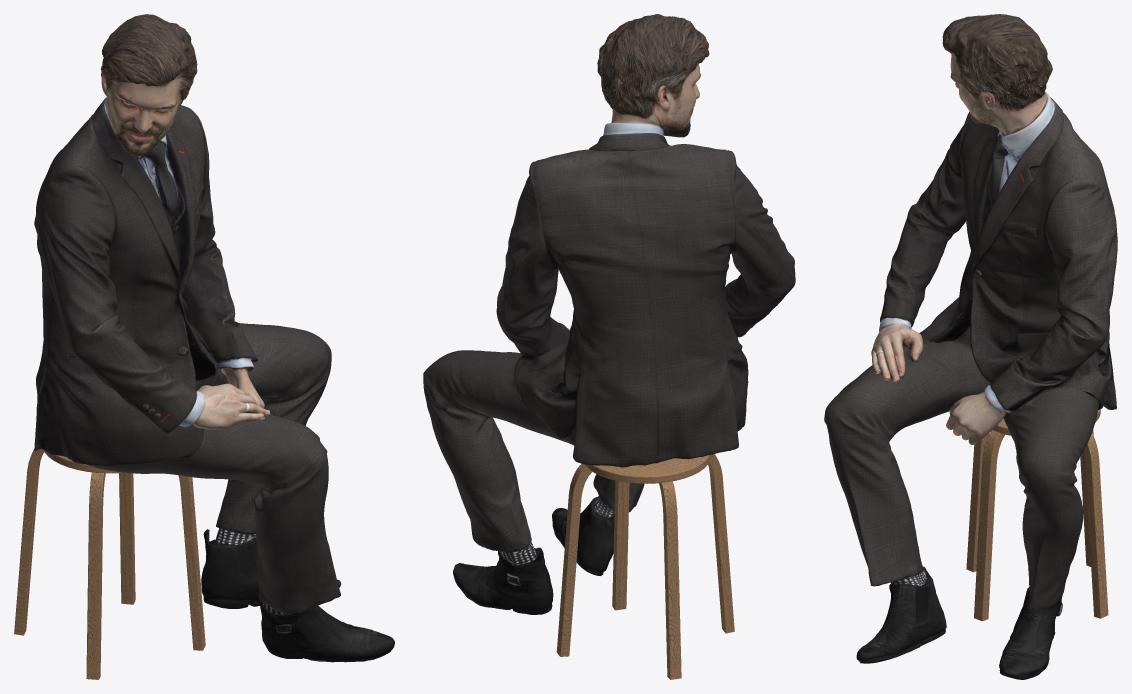
File: GTP_EMan_Ian_38_Stt_Lsn_Sd_Adl_Ccs_Gry_Mgr.fbx
The picture shows the model from 3 angles, left to right: view 1: azimuth 30°, elevation 25°; view 2: azimuth 150°, elevation 25°; view 3: azimuth 270°, elevation 25°; orthographic projection. The views are drawn at different scales.
Parts seen in each view (by area): view 1: GTP_EMan_Ian_38_Stt_Lsn_Sd_Adl_Ccs_Gry_Mgr, GTA_Stool_Wood_Bright; view 2: GTP_EMan_Ian_38_Stt_Lsn_Sd_Adl_Ccs_Gry_Mgr, GTA_Stool_Wood_Bright; view 3: GTP_EMan_Ian_38_Stt_Lsn_Sd_Adl_Ccs_Gry_Mgr, GTA_Stool_Wood_Bright.
Part boxes in pixels (<box>): GTP_EMan_Ian_38_Stt_Lsn_Sd_Adl_Ccs_Gry_Mgr: <box>34,14,394,662</box>; GTA_Stool_Wood_Bright: <box>14,448,205,679</box>; GTP_EMan_Ian_38_Stt_Lsn_Sd_Adl_Ccs_Gry_Mgr: <box>423,14,795,614</box>; GTA_Stool_Wood_Bright: <box>556,454,734,679</box>; GTP_EMan_Ian_38_Stt_Lsn_Sd_Adl_Ccs_Gry_Mgr: <box>824,14,1117,679</box>; GTA_Stool_Wood_Bright: <box>966,409,1108,621</box>.
Bounding box in the file's own units: 78.02 × 147 × 66.91.
2 materials, 2 textured.
